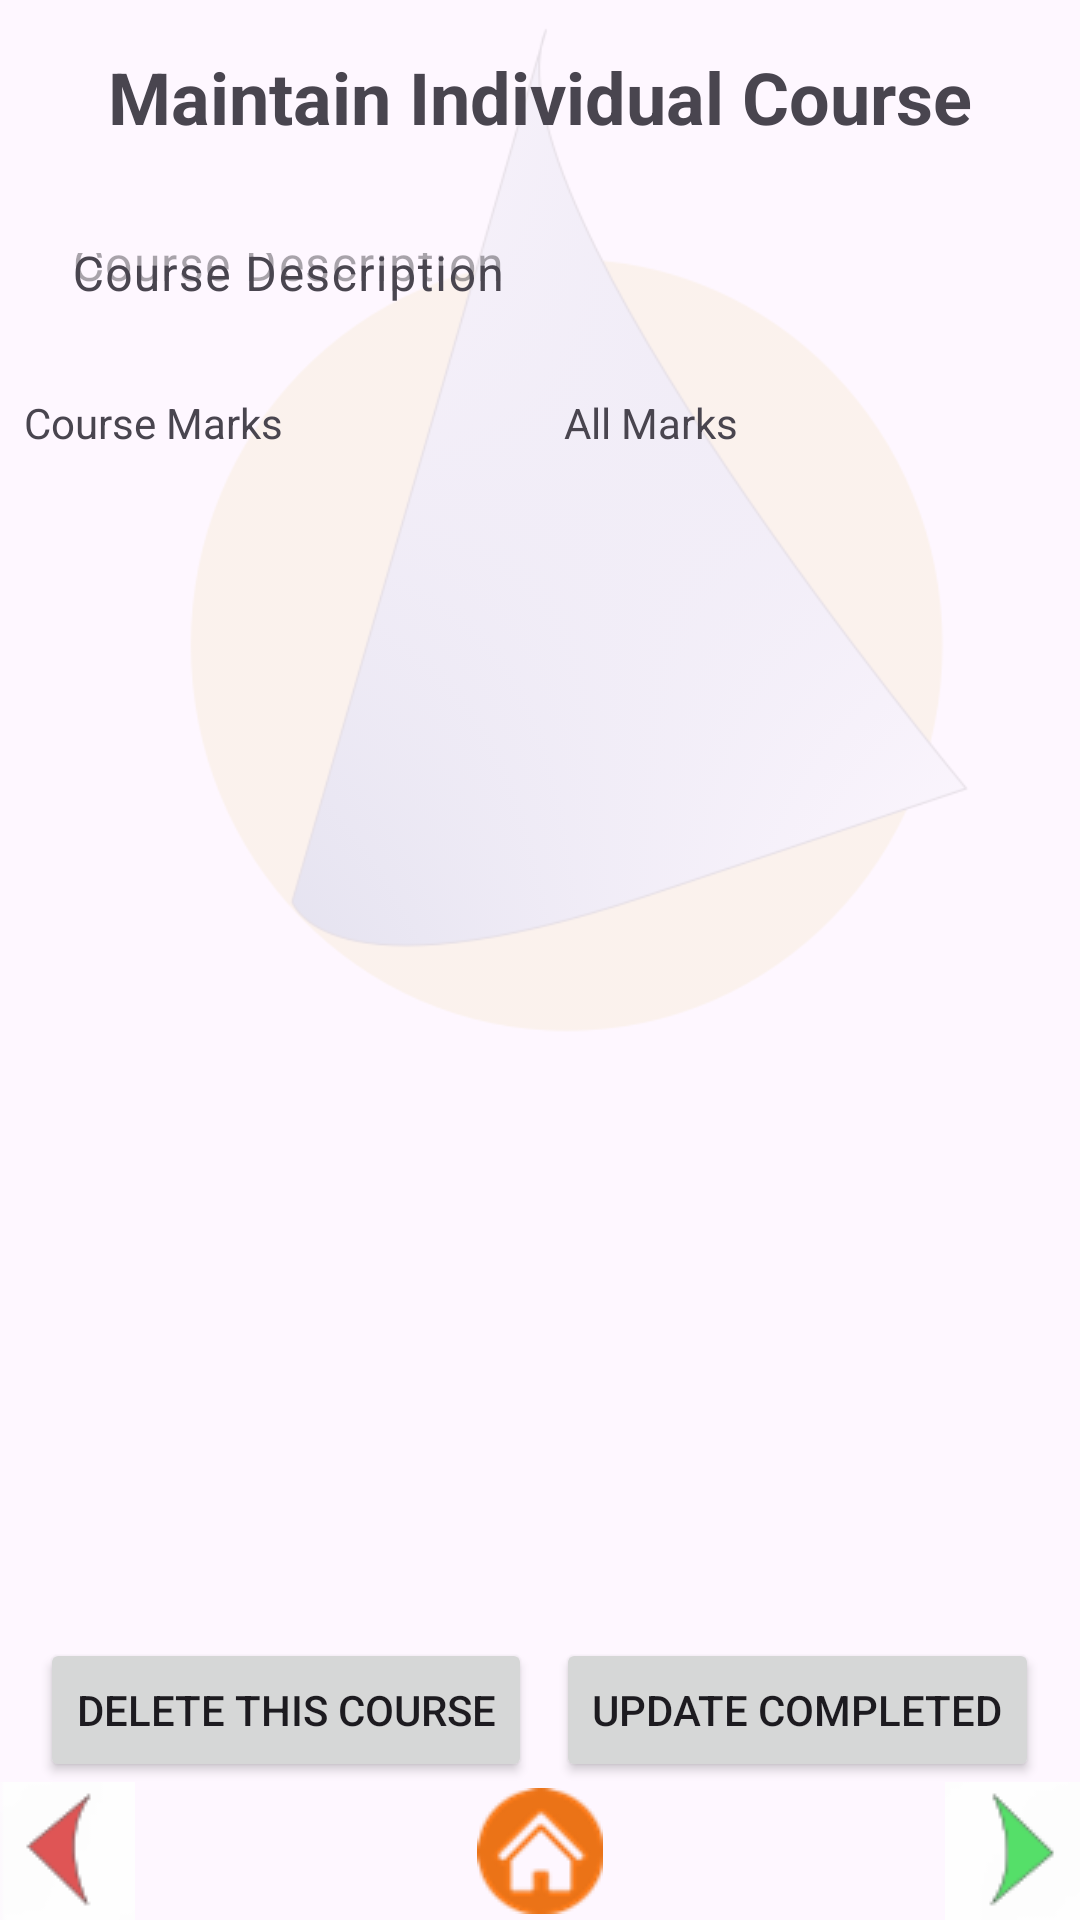

Screen size 1080 × 1920. Icon name, then its box in pixels as (x1, y1, x2, y2):
Home: (477, 1788, 603, 1914)
Left Nav: (26, 1793, 91, 1905)
Right Nav: (990, 1793, 1054, 1905)
